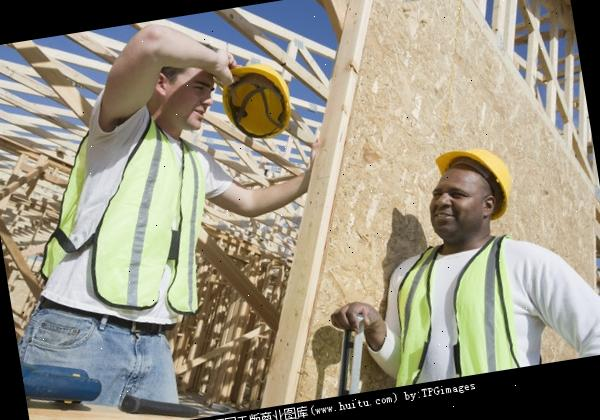helmet: (434, 134, 518, 229), (217, 56, 298, 148)
wear: (51, 134, 217, 336), (373, 235, 542, 387)
